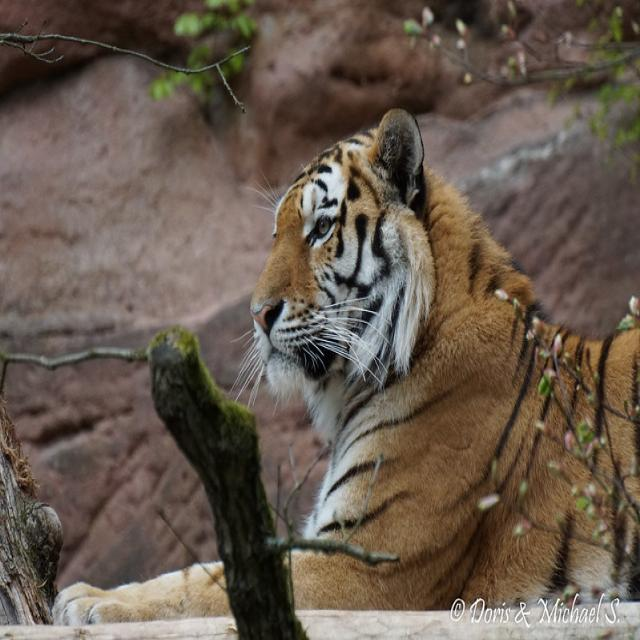Tiger: (221, 97, 634, 598)
